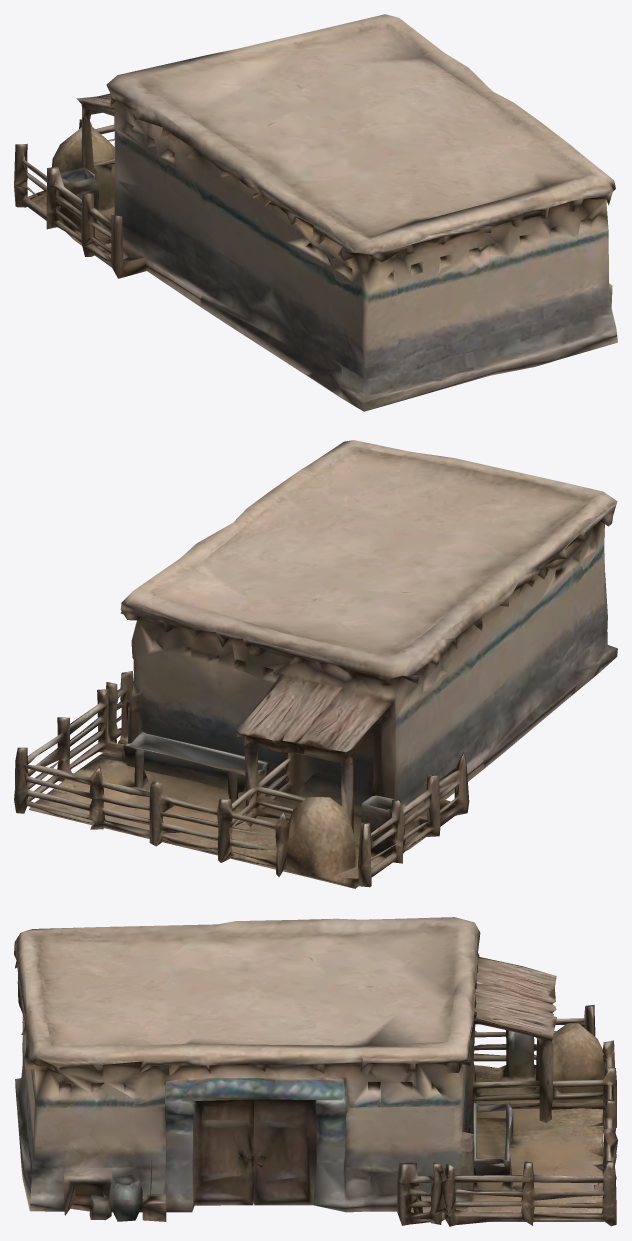
File: barn_0.glb
3 renders of one model, top to bottom at view 1: azimuth 30°, elevation 25°; view 2: azimuth 150°, elevation 25°; view 3: azimuth 270°, elevation 25°, orthographic. The views are drawn at different scales.
Parts seen in each view (by area): view 1: tripo_node_6d404c97-5aeb-4495-84d5-09609b59f1cd; view 2: tripo_node_6d404c97-5aeb-4495-84d5-09609b59f1cd; view 3: tripo_node_6d404c97-5aeb-4495-84d5-09609b59f1cd.
Boxes of the visible parts, x1,y1,x2,y2 form: tripo_node_6d404c97-5aeb-4495-84d5-09609b59f1cd: (14, 14, 617, 411); tripo_node_6d404c97-5aeb-4495-84d5-09609b59f1cd: (14, 440, 617, 888); tripo_node_6d404c97-5aeb-4495-84d5-09609b59f1cd: (14, 917, 617, 1226).
Bounding box in the file's own units: 0.6307 × 0.2902 × 0.9781.
1 material, 1 textured.
